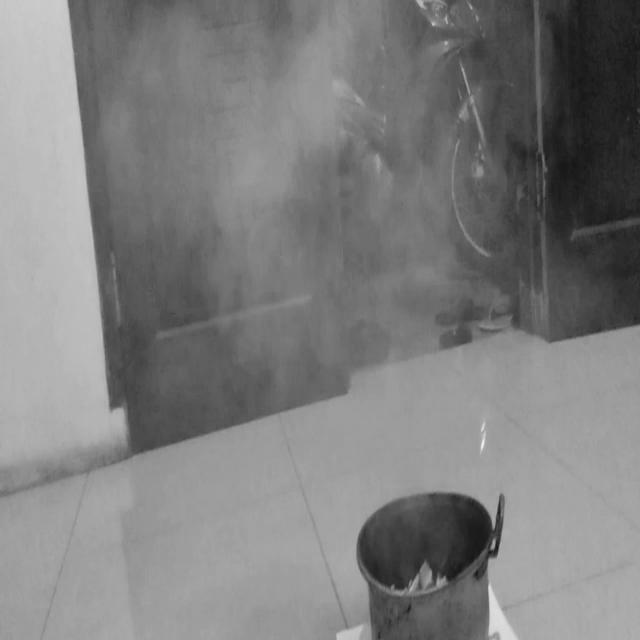fire: (102, 0, 535, 340)
